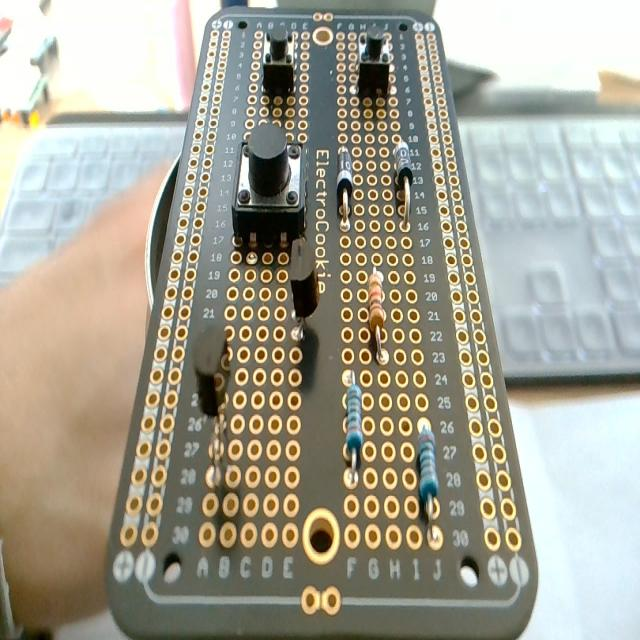diode: (394, 139, 414, 223), (336, 146, 353, 222)
resistor: (417, 426, 441, 542), (342, 375, 363, 487), (367, 269, 387, 365)
switch: (232, 128, 308, 248), (358, 24, 390, 98), (262, 23, 294, 94)
transistor: (194, 320, 232, 490), (288, 239, 319, 340)
